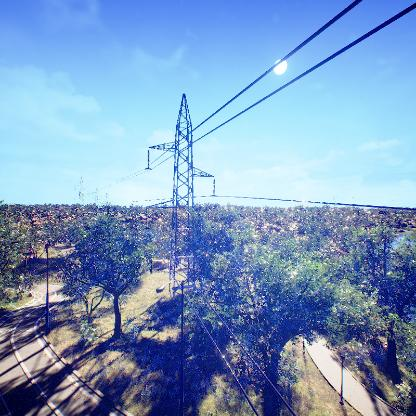tower: (143, 87, 221, 313)
